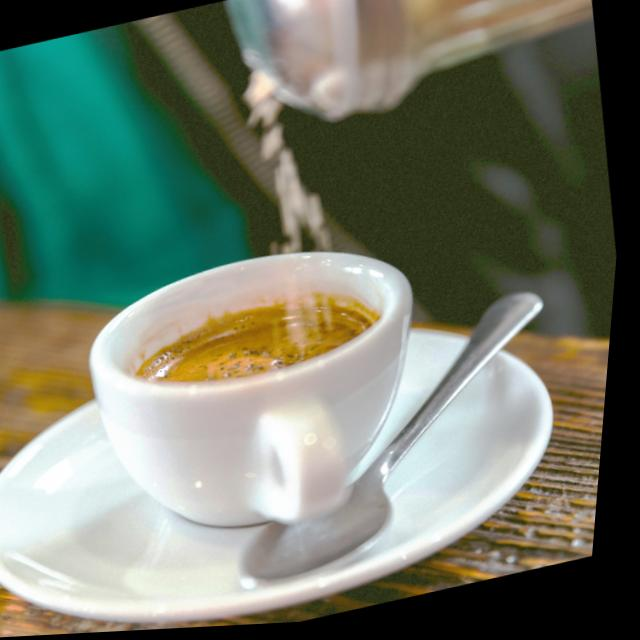drink: (84, 257, 418, 526)
